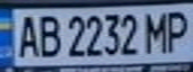2: (63, 11, 87, 58), (118, 10, 142, 56), (84, 11, 106, 58)
3: (103, 10, 124, 57)
A: (12, 11, 42, 58)
B: (33, 11, 63, 58)
M: (142, 8, 172, 54)
P: (160, 7, 193, 53)
